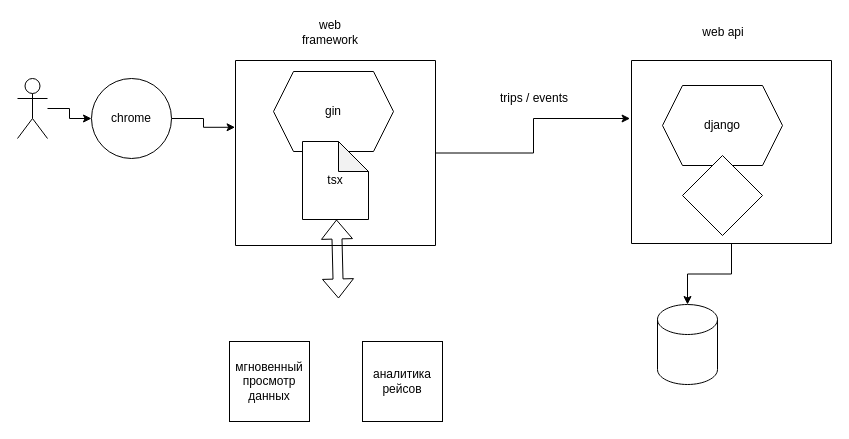
This 849x439 diagram has some shape labels left out. Each missing label, with the centre of its shape:
Actor: [32,108]
oracle: [687,344]
oracle client: [722,195]
